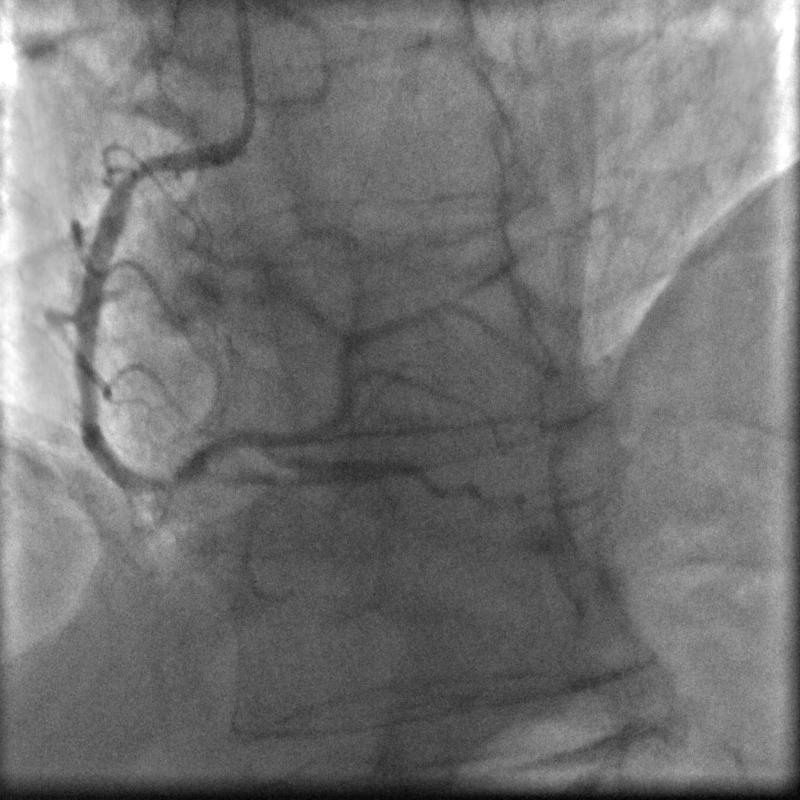Stenosis: (116, 152, 159, 185)
